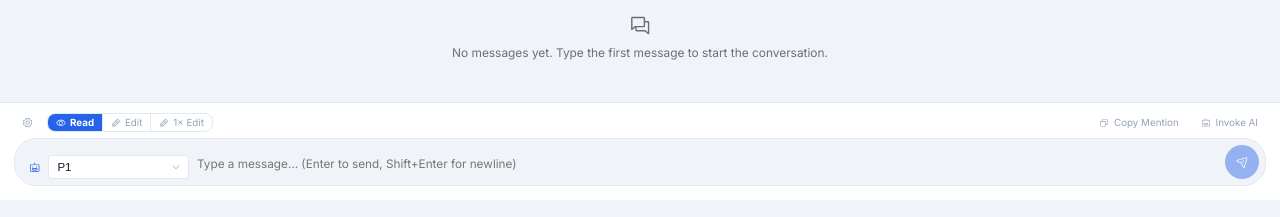
Test: ConversationView AI source mode Quick Mode (group 0568 T0004) › disables every mode button and ignores a second click while a change is in flight
This screenshot has width=1280, height=217.
Click the button with class "conv-source-mode-btn" showing "Edit": (127, 123) top-left (103, 114), bottom-right (151, 131)
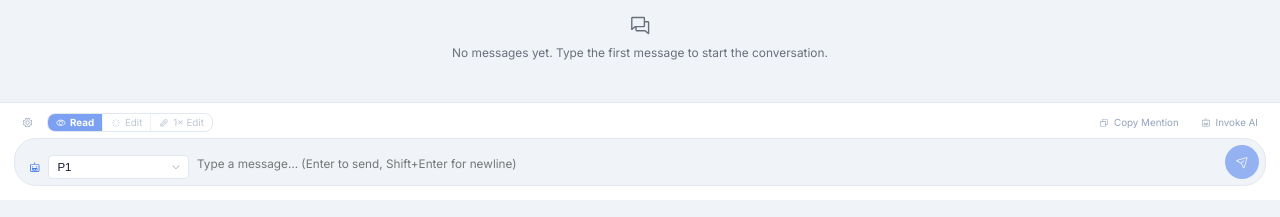
Expected: the button with class "conv-source-mode-btn" showing "Edit" is disabled
Expected: the button with class "conv-source-mode-btn" showing "Read" is disabled, top-left (48, 114), bottom-right (103, 131)
Click the button with class "conv-source-mode-btn" showing "Edit": (127, 123) top-left (103, 114), bottom-right (151, 131)
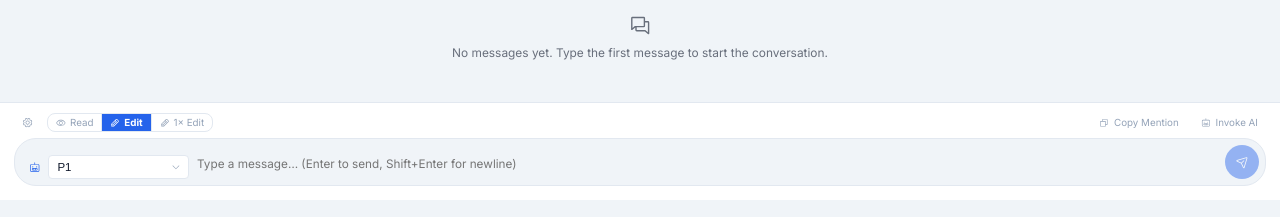
Expected: the button with class "conv-source-mode-btn" showing "Edit" is enabled, top-left (102, 114), bottom-right (152, 131)
